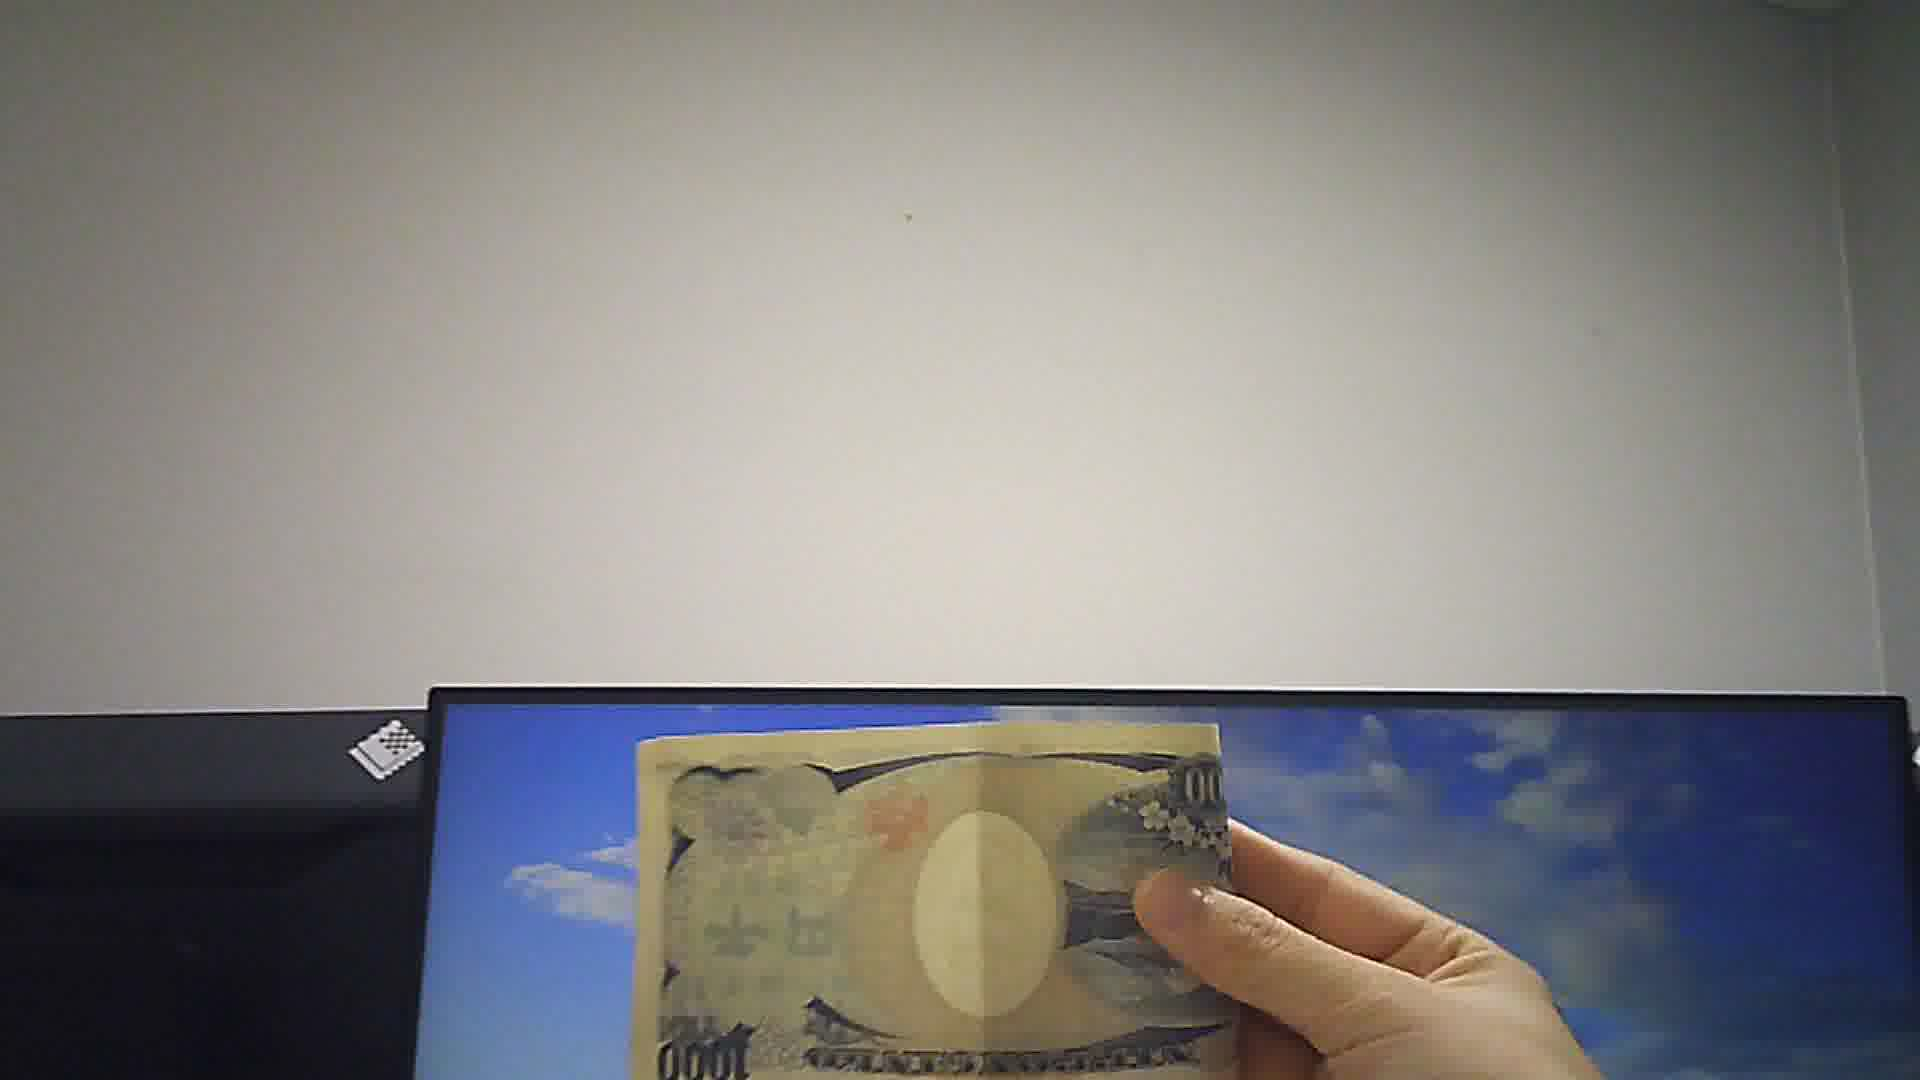1,000 Yen: (620, 715, 1255, 1079)
